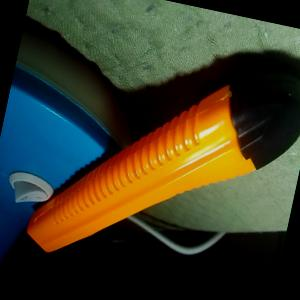estilete: (22, 22, 300, 300)
